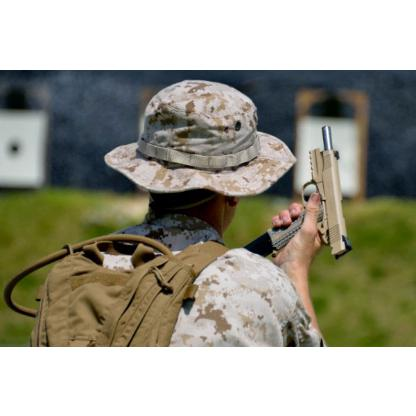gun: (268, 124, 350, 264)
